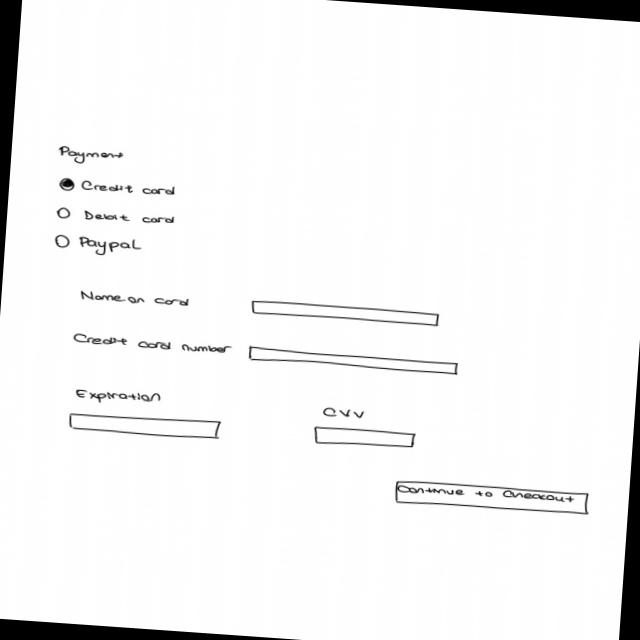button: (393, 479, 593, 519)
input: (247, 345, 462, 377), (250, 299, 444, 329), (67, 411, 224, 442), (313, 425, 418, 453)
label: (72, 332, 233, 359), (78, 289, 192, 310), (75, 387, 164, 409), (58, 146, 127, 168), (323, 406, 370, 421)
radio: (57, 177, 179, 200), (55, 207, 180, 228), (54, 234, 144, 260)
